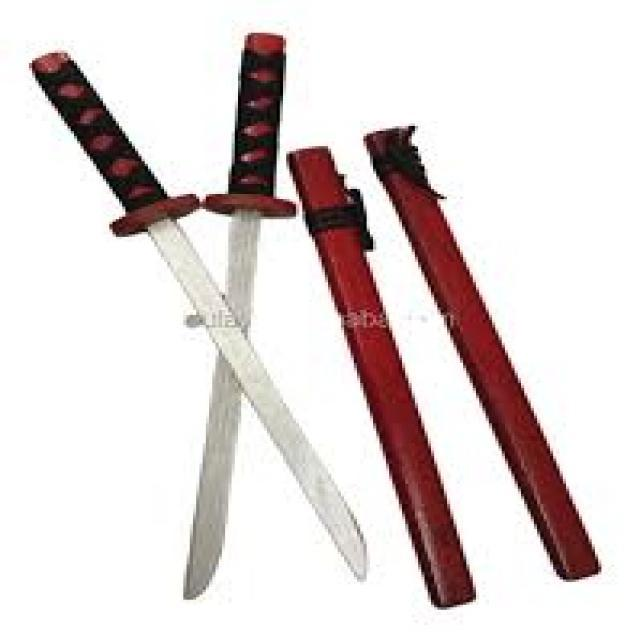long sword: (30, 48, 381, 610)
